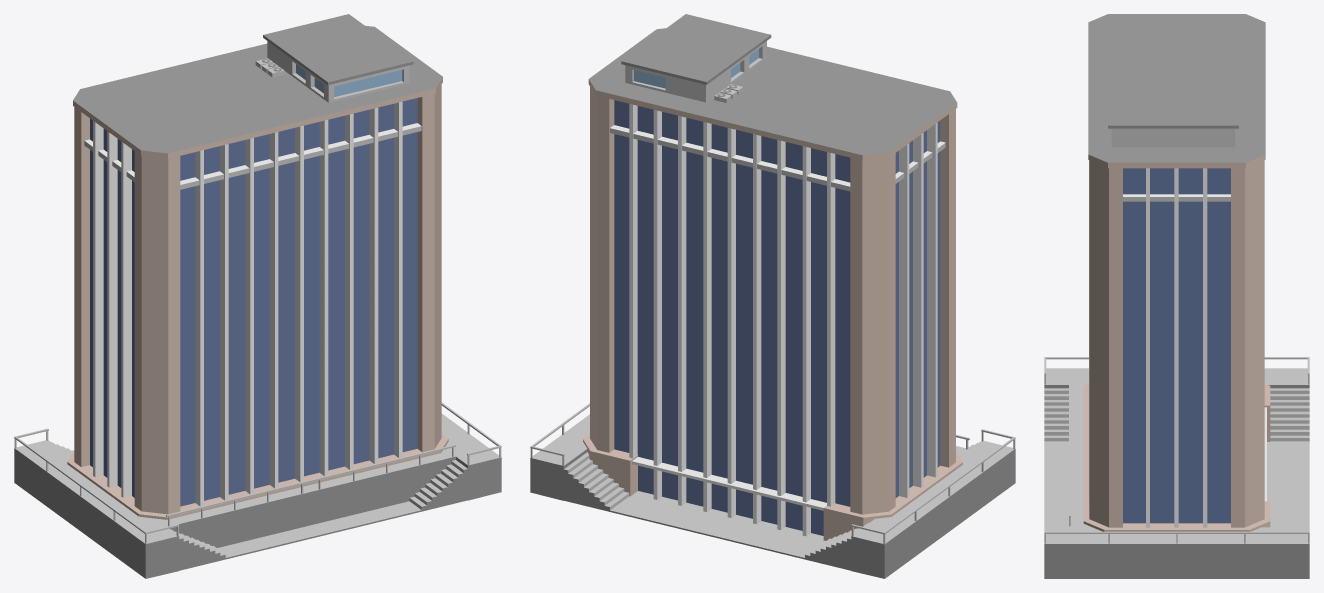
File: building7.glb
The picture shows the model from 3 angles, left to right: view 1: azimuth 30°, elevation 25°; view 2: azimuth 150°, elevation 25°; view 3: azimuth 270°, elevation 25°; orthographic projection.
Parts seen in each view (by area): view 1: huitugou_2443_2794; view 2: huitugou_2443_2794; view 3: huitugou_2443_2794.
Part boxes in pixels (x1,y1,x2,y2): huitugou_2443_2794: (14, 14, 501, 578); huitugou_2443_2794: (530, 14, 1015, 578); huitugou_2443_2794: (1044, 14, 1309, 578).
Size of the model in its own units: 8.49 by 9.7 by 5.43.
1 material, 1 textured.
